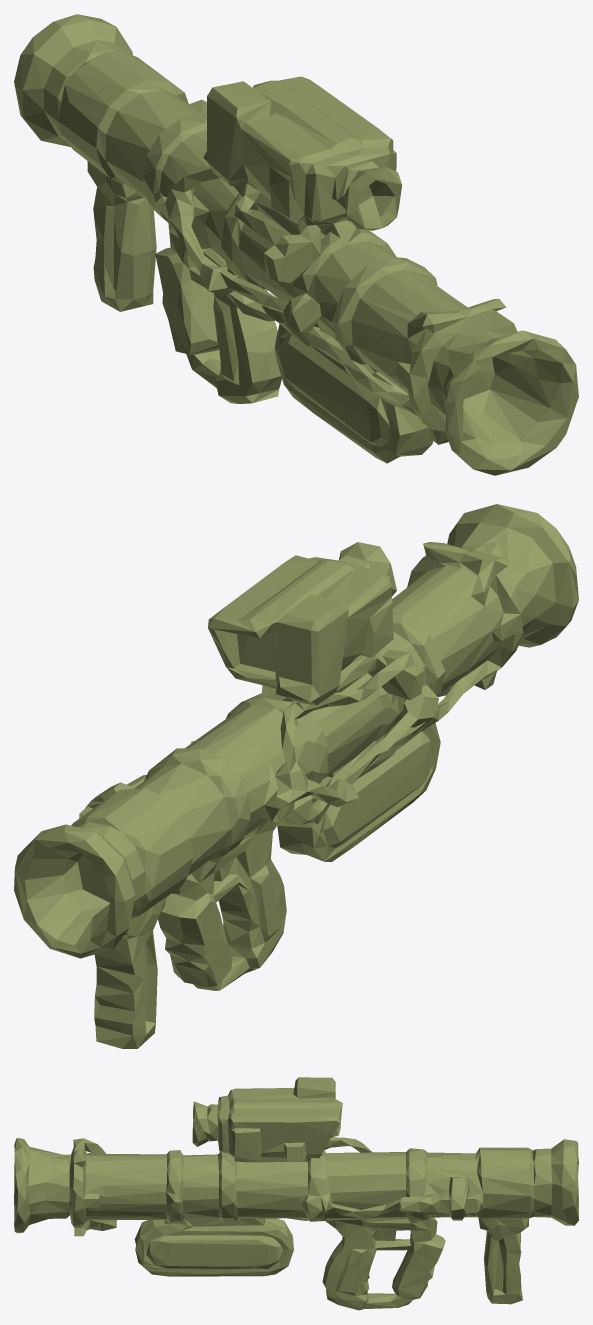
Rendered from missile-launcher.glb.
3 views of the same model, one above another, from view 1: azimuth 30°, elevation 25°; view 2: azimuth 150°, elevation 25°; view 3: azimuth 270°, elevation 25° (orthographic). The views are drawn at different scales.
Parts seen in each view (by area): view 1: world; view 2: world; view 3: world.
Boxes of the visible parts, x1,y1,x2,y2 form: world: [14, 14, 578, 475]; world: [14, 504, 578, 1048]; world: [14, 1077, 578, 1310].
Size of the model in its own units: 0.2163 by 0.4633 by 1.1.
